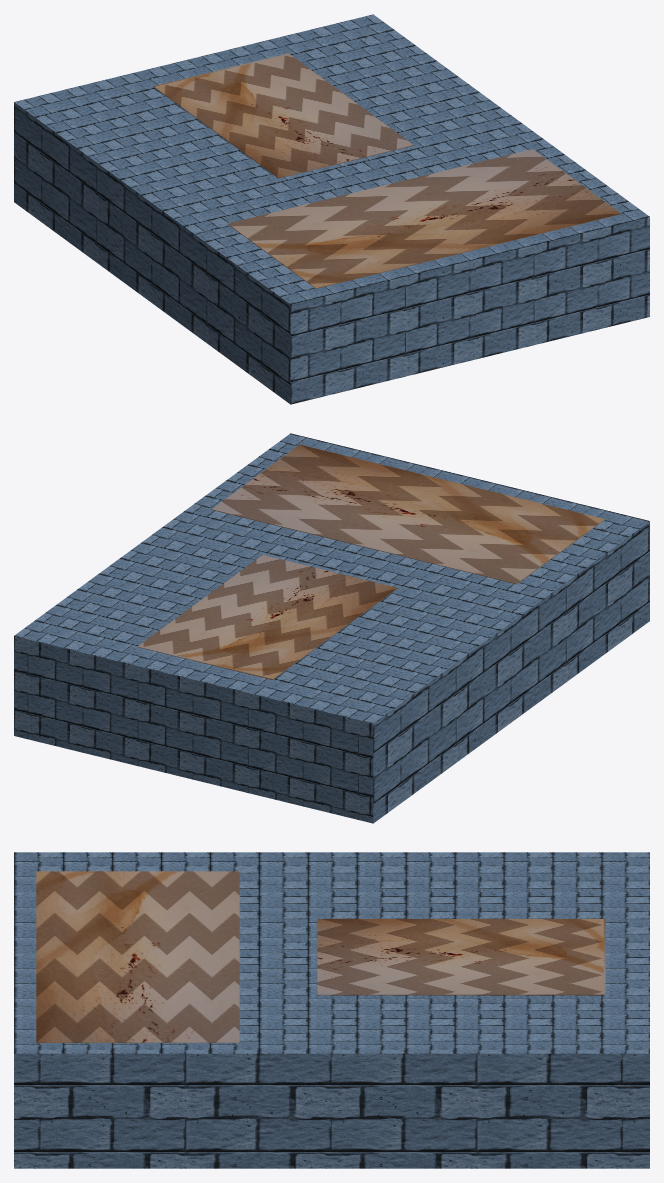
The model's file is kitchenFloor.fbx.
3 renders of one model, top to bottom at view 1: azimuth 30°, elevation 25°; view 2: azimuth 150°, elevation 25°; view 3: azimuth 270°, elevation 25°, orthographic. The views are drawn at different scales.
Visible parts, largest first — view 1: floor, rug, rug2; view 2: floor, rug, rug2; view 3: floor, rug, rug2.
Part boxes in pixels (x1,y1,x2,y2): floor: (14,14,649,404); rug: (227,149,620,288); rug2: (153,53,413,178); floor: (14,433,649,823); rug: (211,444,605,584); rug2: (137,555,397,679); floor: (14,852,649,1168); rug: (36,871,239,1042); rug2: (317,919,605,995).
Size of the model in its own units: 3 by 0.8025 by 4.
